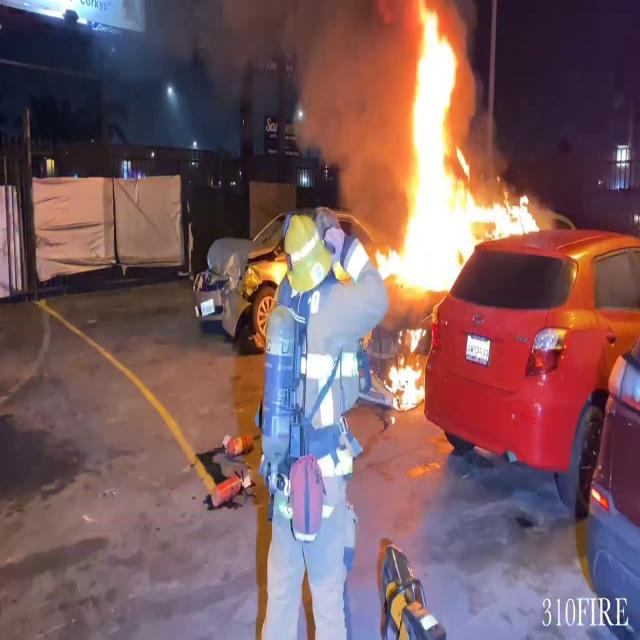Fire: (379, 1, 541, 295), (383, 322, 435, 413)
